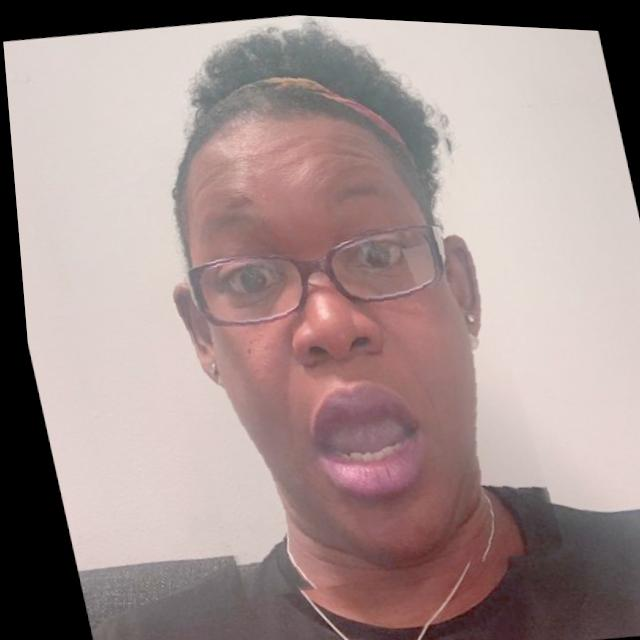sad: (92, 4, 554, 610)
